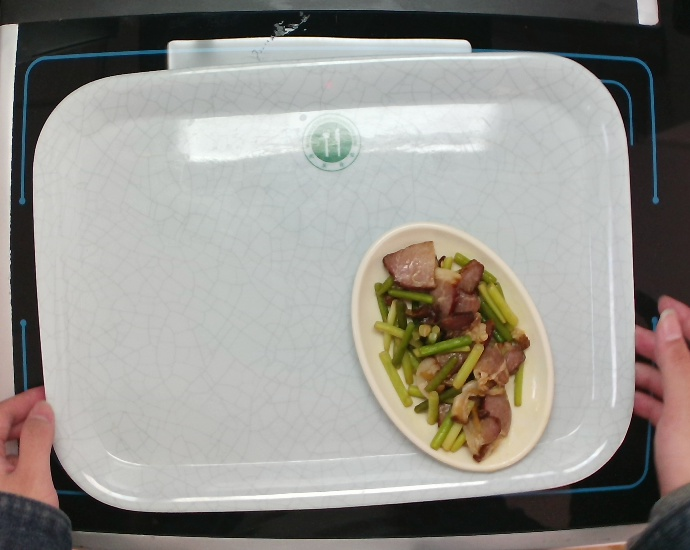JYsf-Tuo_Yuan_Wan: (345, 219, 557, 478)
